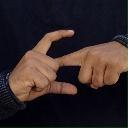hand: (7, 28, 78, 102), (55, 40, 127, 88)
